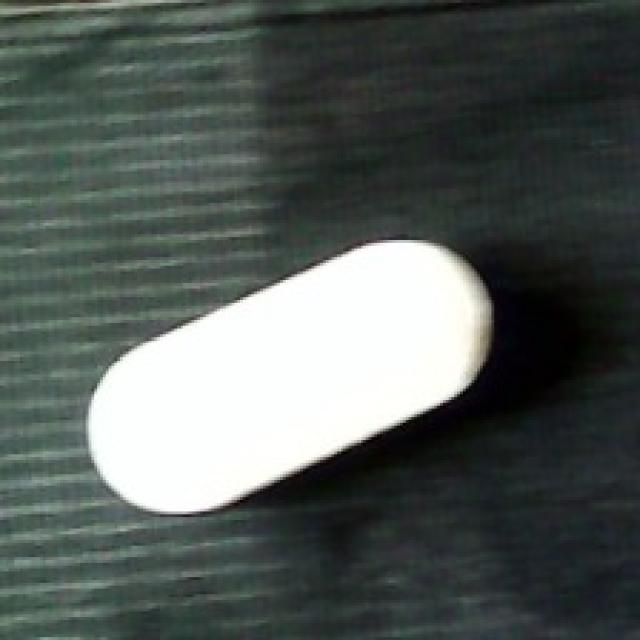no-defect: (80, 237, 494, 521)
